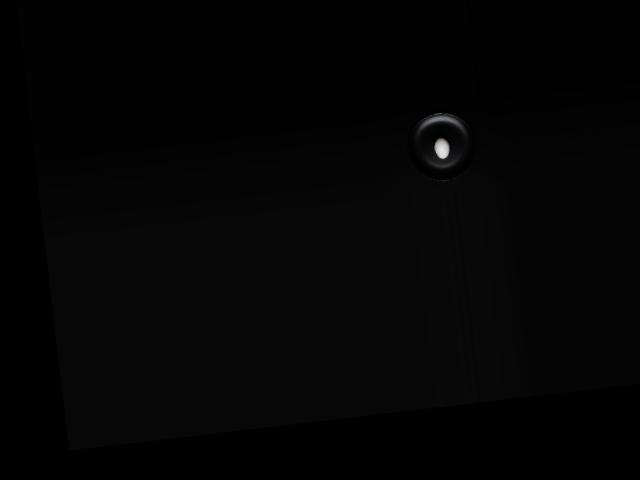egg: (432, 136, 450, 159)
